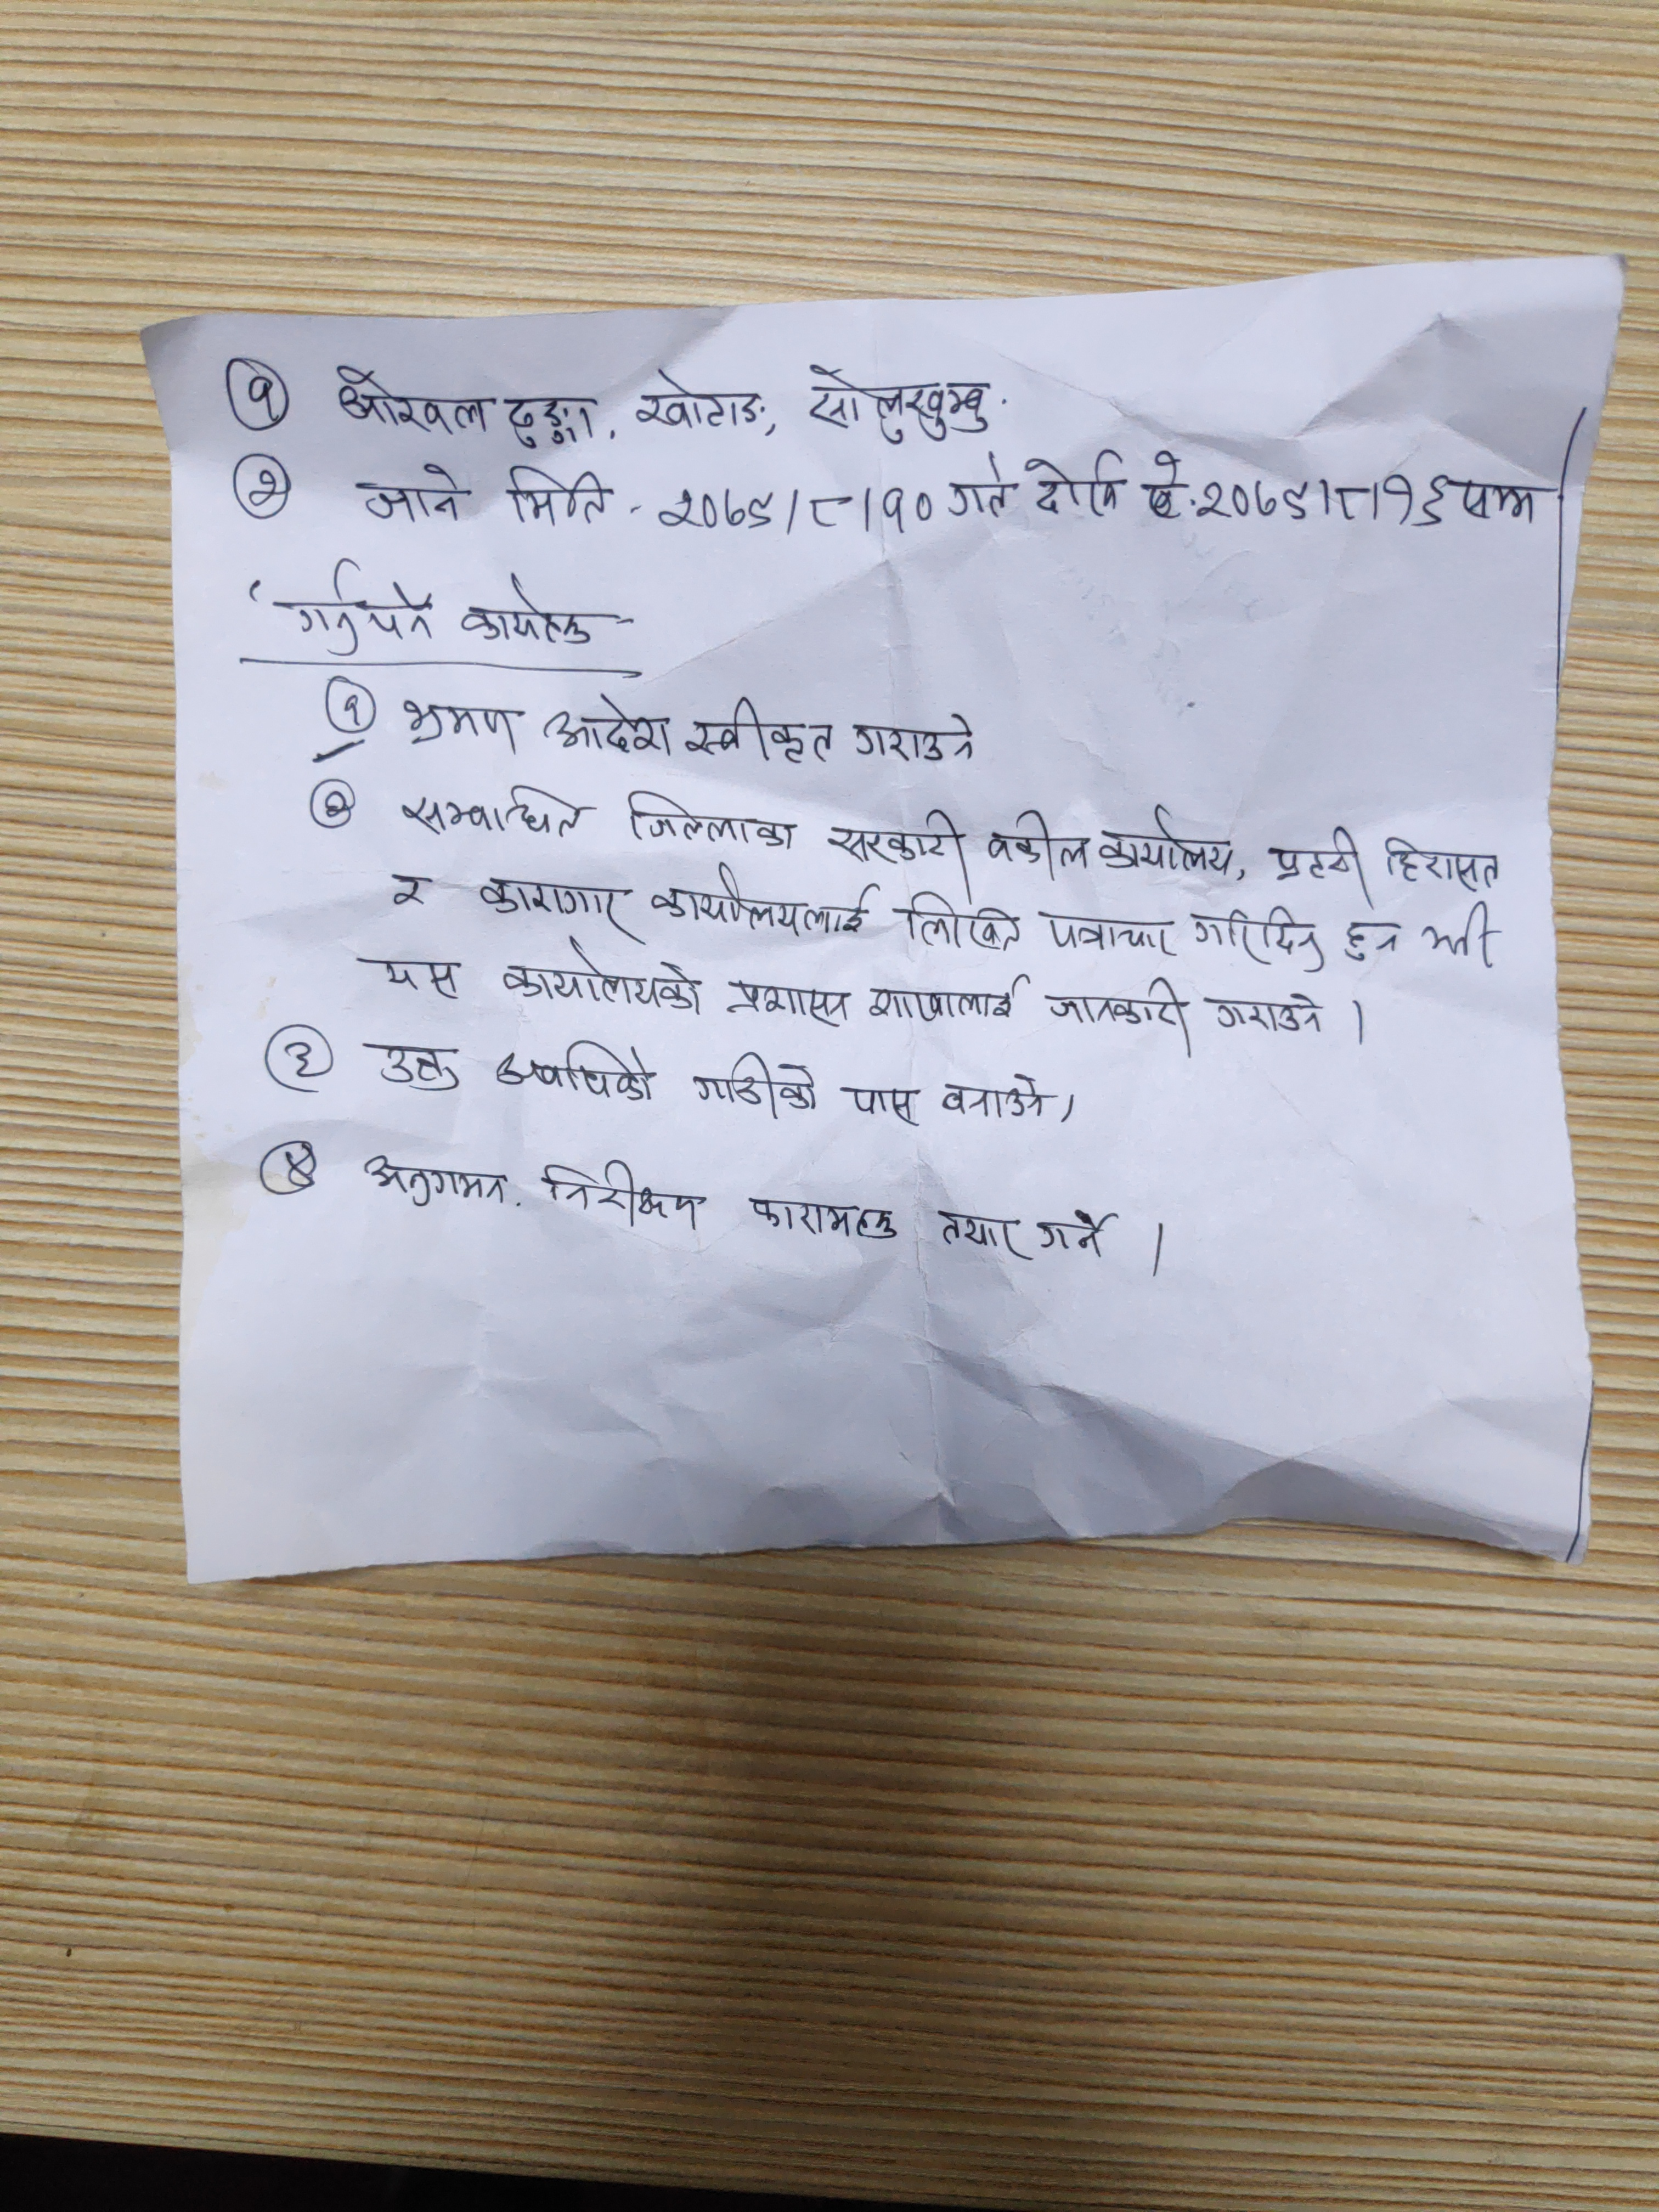text: (647, 859, 885, 944), (497, 932, 711, 1017), (1194, 470, 1448, 536), (795, 361, 997, 442), (279, 556, 439, 658), (657, 481, 934, 540), (545, 1157, 709, 1235), (331, 362, 490, 441), (490, 1036, 657, 1109), (1183, 902, 1333, 981), (1042, 974, 1192, 1050), (680, 695, 836, 768), (457, 571, 596, 651), (622, 786, 803, 846), (396, 782, 598, 836), (864, 963, 1033, 1022), (1103, 803, 1239, 876), (538, 688, 680, 758), (634, 362, 767, 435), (687, 1049, 824, 1116), (471, 874, 638, 930), (823, 808, 964, 871), (366, 1151, 509, 1212), (1014, 446, 1127, 521), (897, 890, 1026, 953), (852, 707, 979, 770), (1037, 906, 1178, 961), (401, 695, 530, 756), (985, 803, 1089, 878), (741, 1193, 904, 1240), (359, 462, 464, 531), (1382, 833, 1500, 894), (500, 462, 610, 524), (721, 979, 856, 1029), (1265, 822, 1366, 887), (1202, 989, 1328, 1040), (500, 394, 601, 449), (936, 1073, 1053, 1120), (1033, 1207, 1121, 1270), (369, 1042, 467, 1097), (1419, 895, 1495, 963), (362, 951, 462, 1003), (939, 1207, 1033, 1259), (941, 451, 1011, 521), (1455, 477, 1542, 531), (1140, 444, 1185, 524), (838, 1083, 918, 1129), (1338, 911, 1401, 961), (390, 869, 437, 918), (242, 374, 282, 430), (281, 1148, 324, 1197), (319, 786, 362, 829), (244, 469, 288, 512), (282, 1033, 312, 1078), (338, 690, 366, 733)
